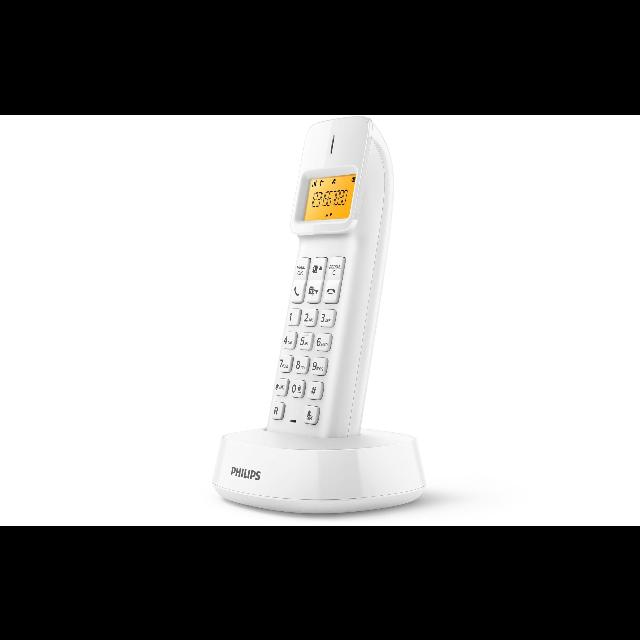Telephone-Set: (234, 124, 508, 526)
